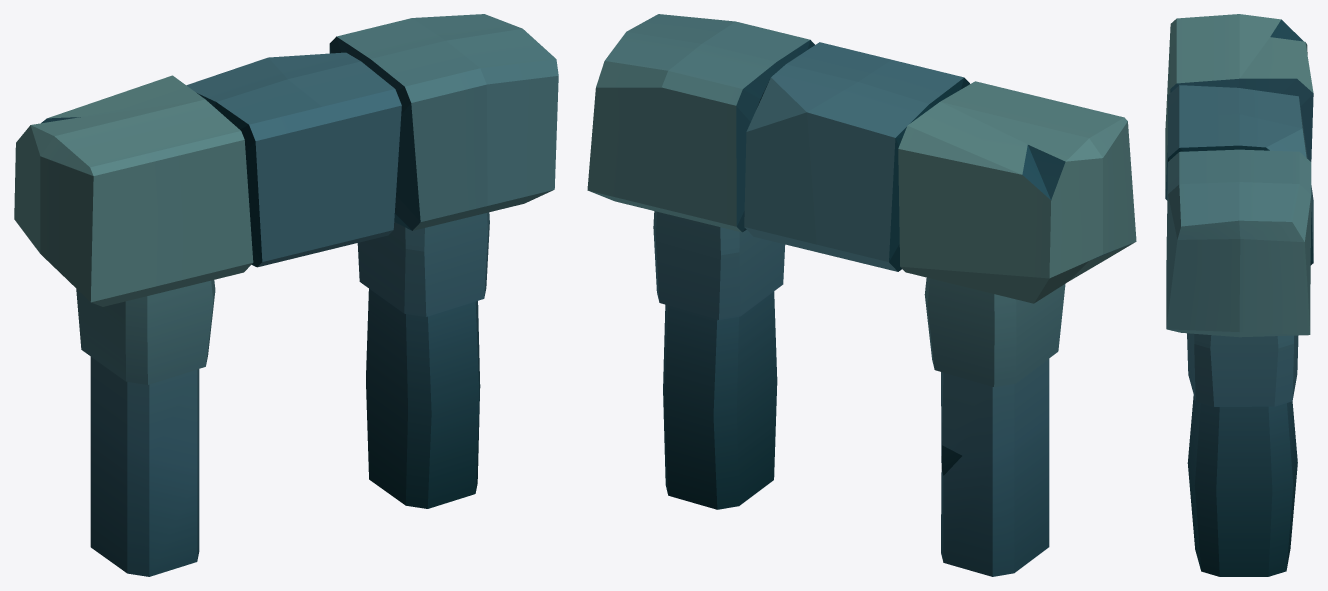
Rendered from RockPort.fbx.
3 renders of one model, left to right at view 1: azimuth 30°, elevation 25°; view 2: azimuth 150°, elevation 25°; view 3: azimuth 270°, elevation 25°, orthographic. The views are drawn at different scales.
Parts seen in each view (by area): view 1: Cube.031; view 2: Cube.031; view 3: Cube.031.
Boxes of the visible parts, <box> form: Cube.031: <box>14,14,558,576</box>; Cube.031: <box>587,14,1136,576</box>; Cube.031: <box>1165,14,1313,576</box>.
Size of the model in its own units: 6.72 by 2.03 by 5.84.
